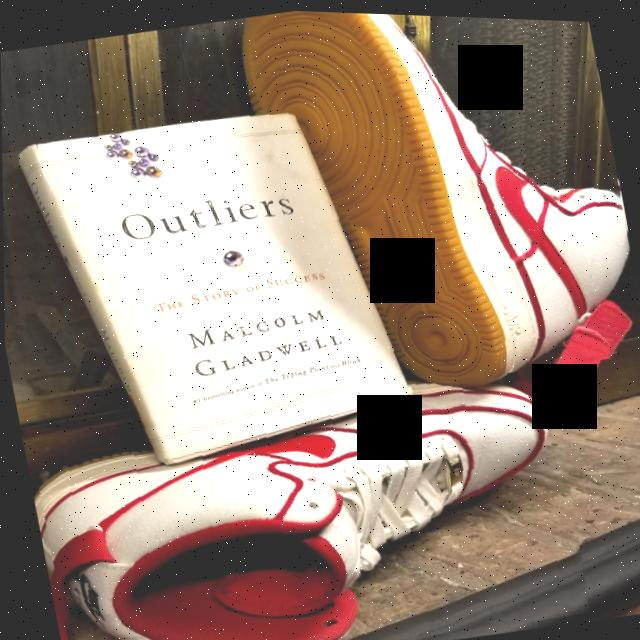shoe: (25, 337, 597, 640), (222, 6, 640, 410)
